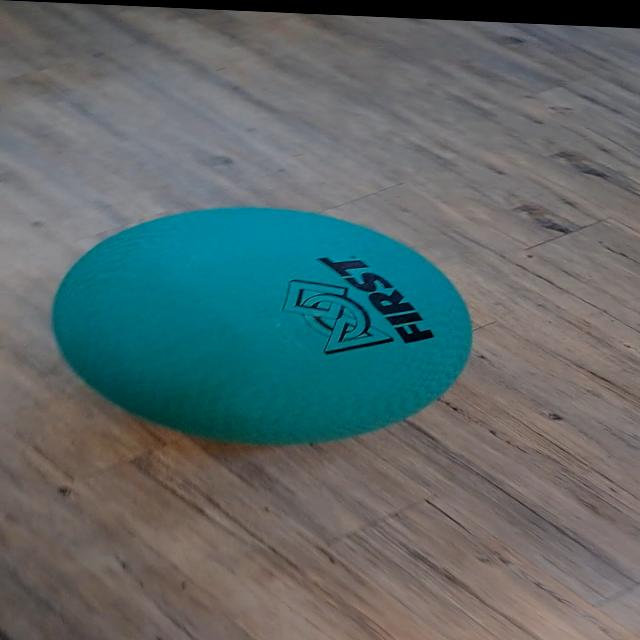ALGAE: (49, 196, 475, 456)
